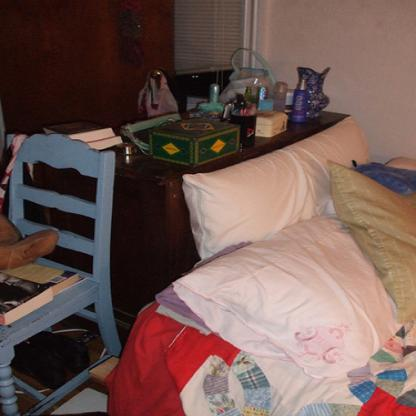bottle: (290, 77, 310, 125), (202, 84, 226, 117)
chair: (0, 131, 123, 415)
